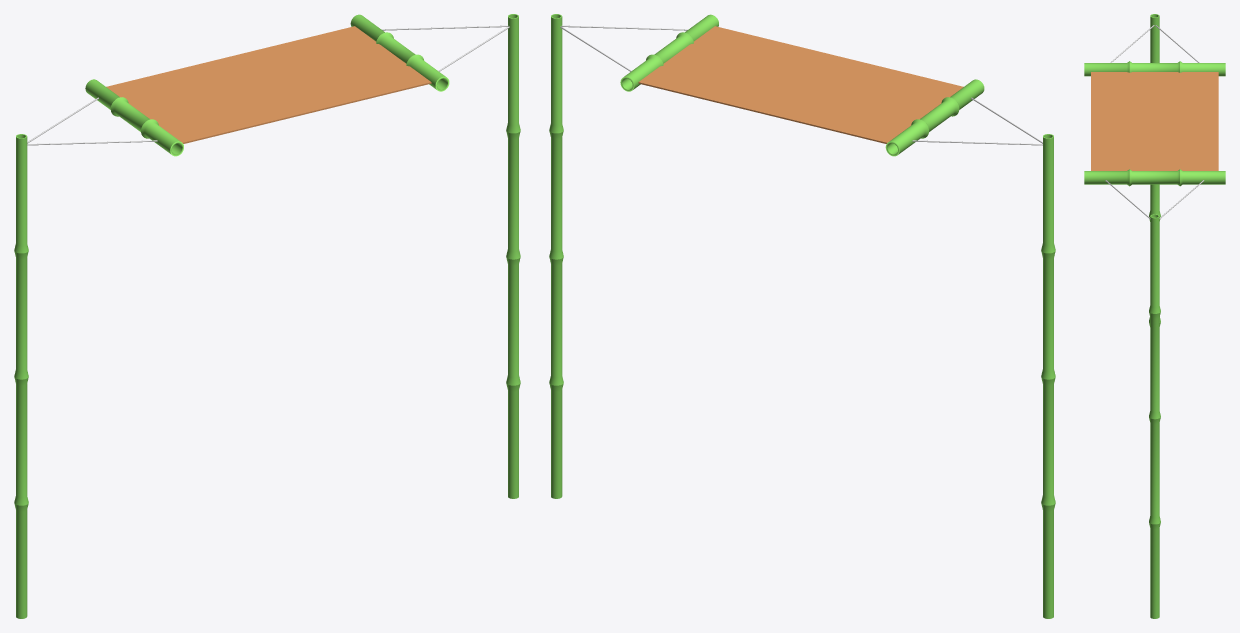
The model's file is Hammock.fbx.
3 views of the same model, side by side, from view 1: azimuth 30°, elevation 25°; view 2: azimuth 150°, elevation 25°; view 3: azimuth 270°, elevation 25° (orthographic). The views are drawn at different scales.
Visible parts, largest first — view 1: Hammock, HammockPole, HammockHolder, Rope; view 2: Hammock, HammockPole, HammockHolder, Rope; view 3: Hammock, HammockPole, HammockHolder, Rope.
Boxes of the visible parts, x1,y1,x2,y2 form: Hammock: (106,26,431,143); HammockPole: (14,14,520,618); HammockHolder: (85,14,449,156); Rope: (27,25,509,145); Hammock: (638,26,963,143); HammockPole: (549,14,1055,618); HammockHolder: (620,14,984,156); Rope: (560,25,1042,145); Hammock: (1091,72,1218,170); HammockPole: (1149,14,1160,618); HammockHolder: (1084,61,1225,186); Rope: (1105,25,1204,219).
Size of the model in its own units: 2282 by 2077 by 664.
